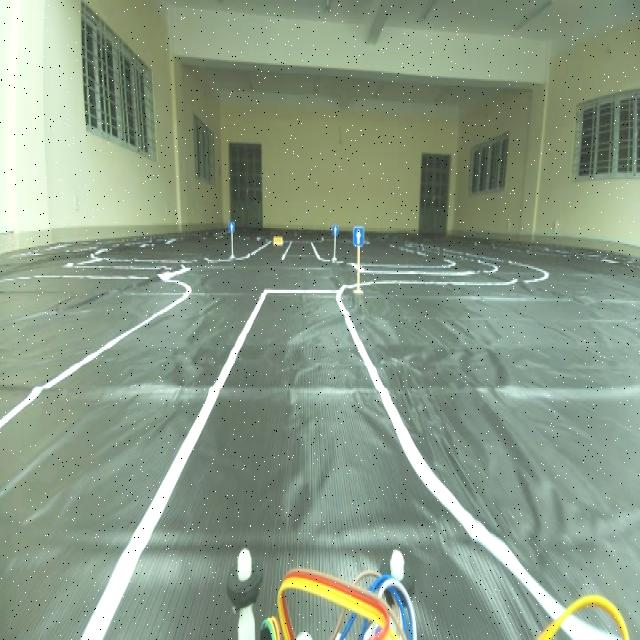onewayroad: (352, 219, 367, 250), (227, 214, 236, 237), (332, 220, 340, 238)
roadblock: (272, 232, 285, 243)
